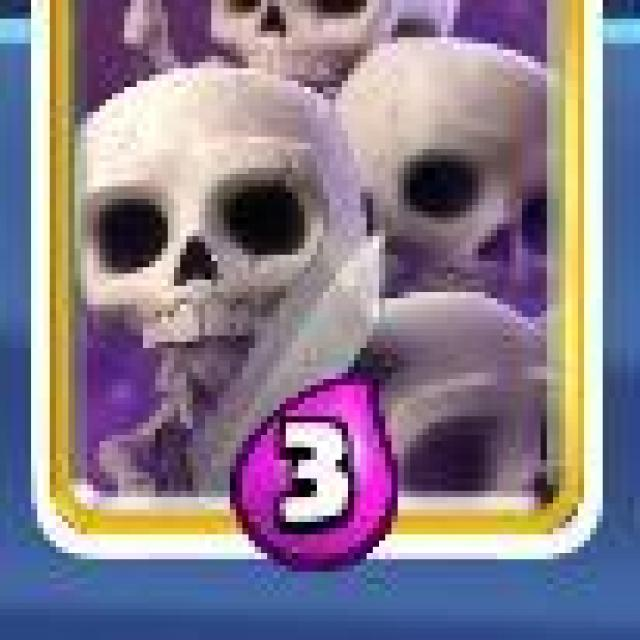Skeleton_Army: (29, 0, 602, 566)
